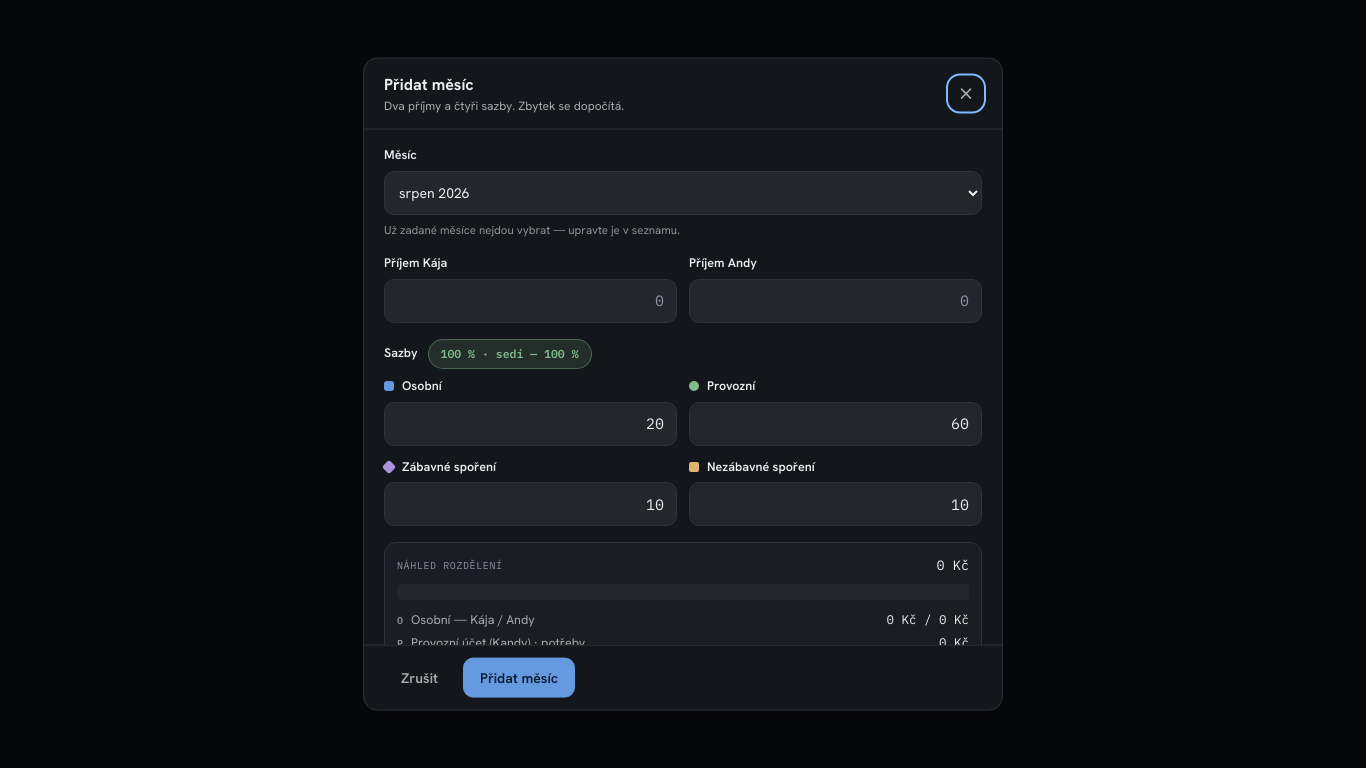
Test: MonthFormModal › reports the rates as over 100 as well as under
Clear the field labelled "Osobní" at (530, 423), box [384,401,677,445]
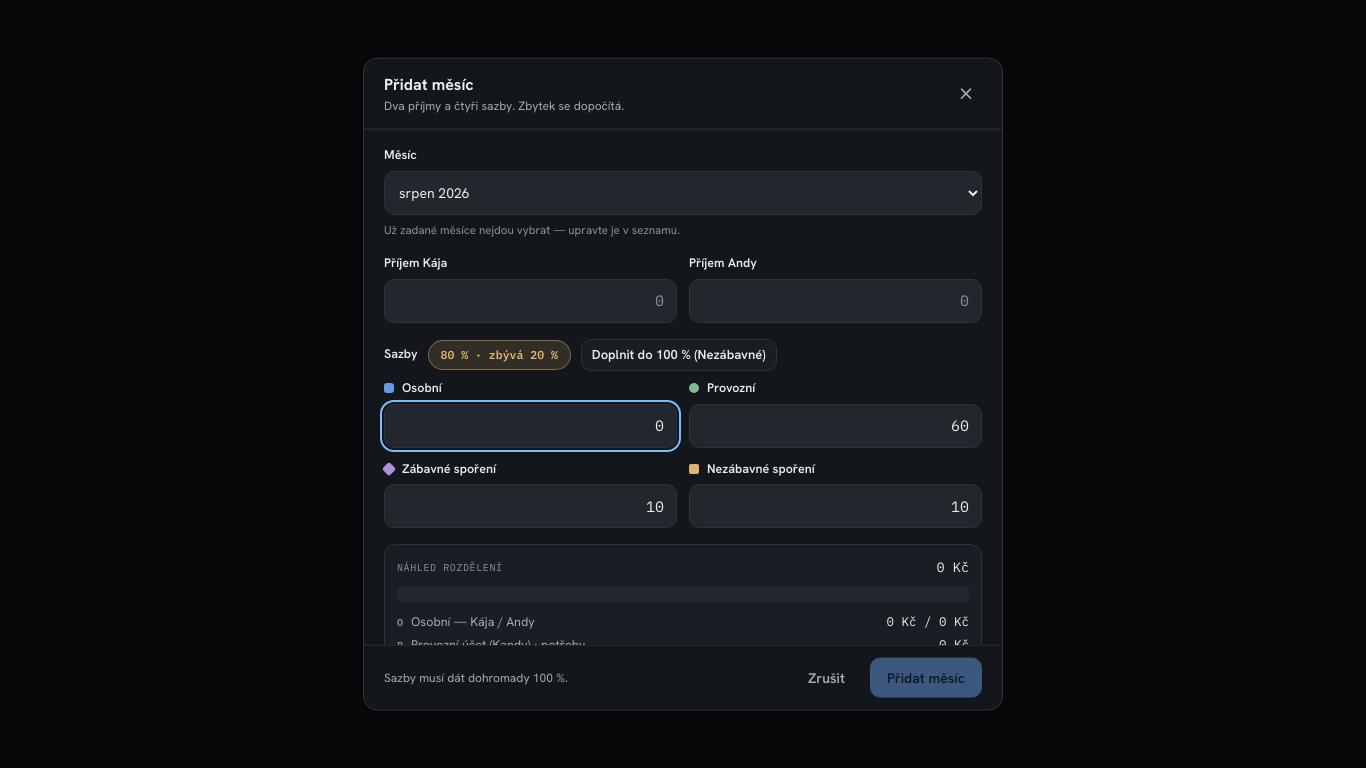
Type "30" into the field labelled "Osobní".
click(530, 425); type("30")  # box [384,403,677,447]
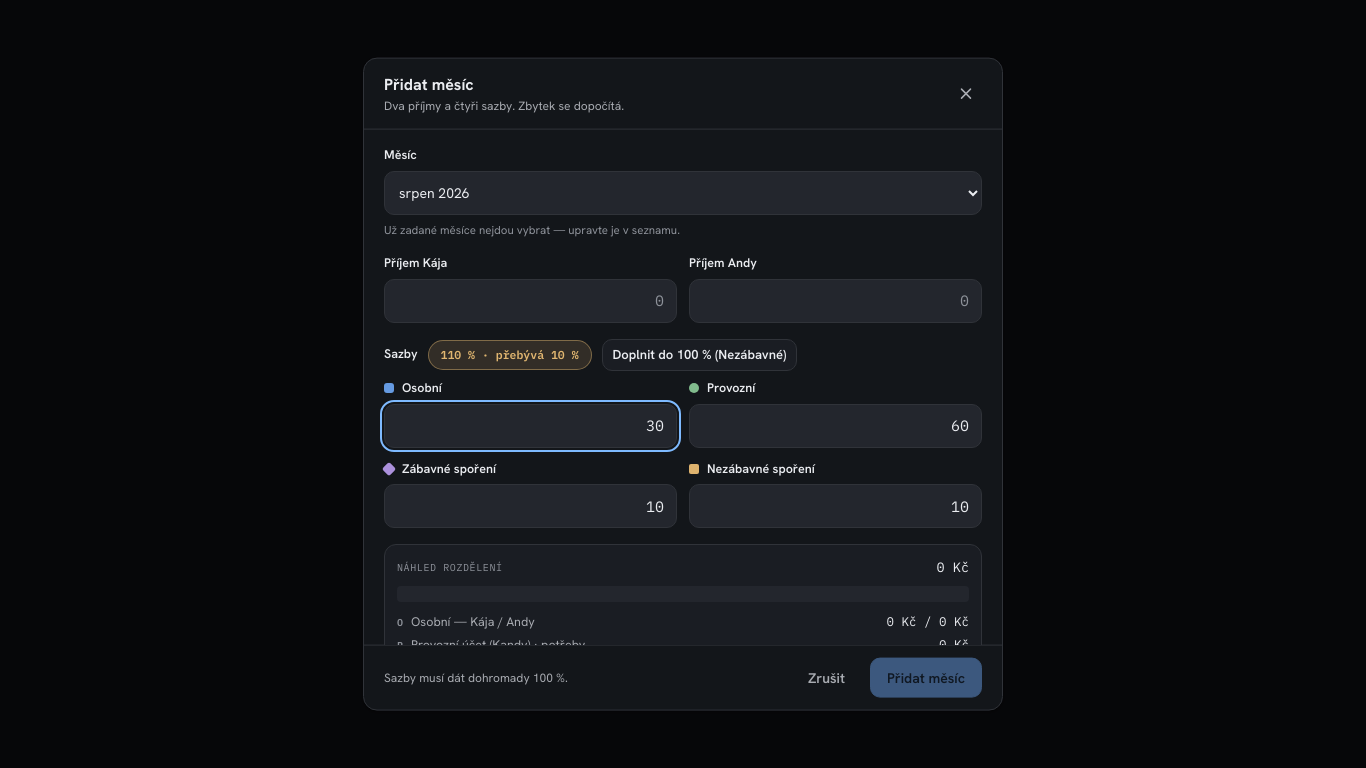
expect the text "110 % · přebývá 10 %" is shown: met, box [428,339,592,369]
